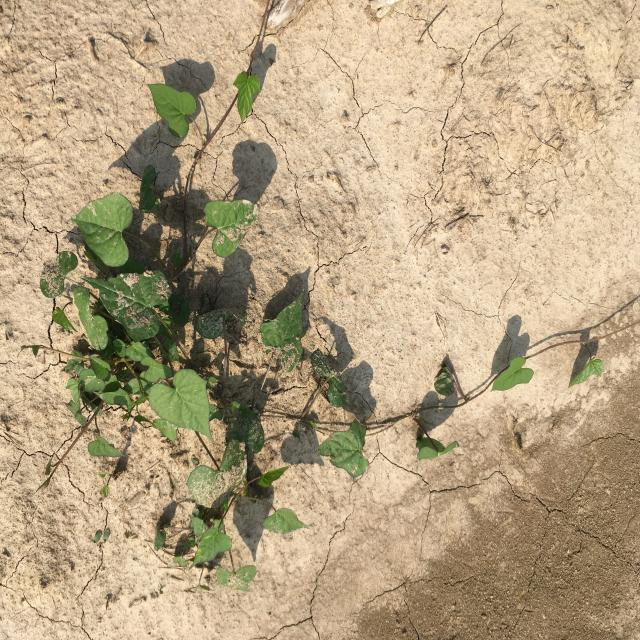MorningGlory: (25, 2, 639, 593)
